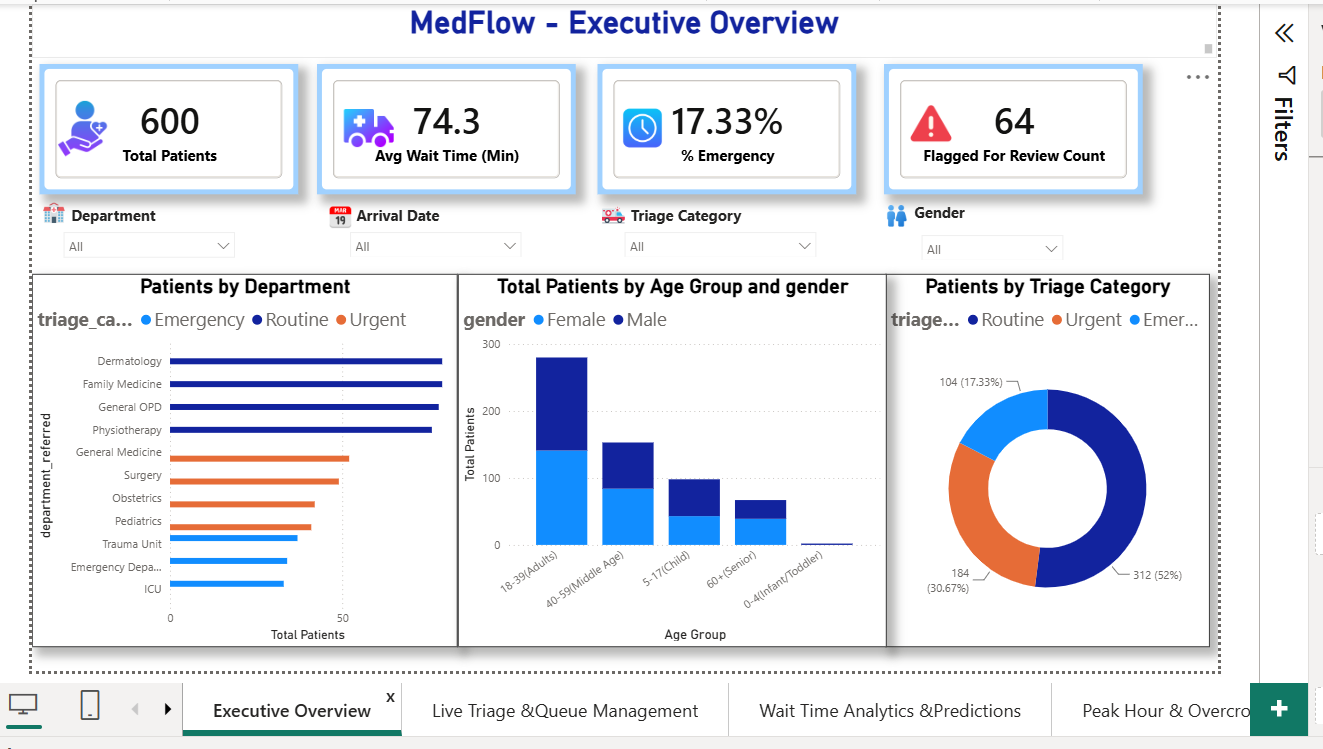

The dashboard page shown, as its layout file describes it:
{"tool":"powerbi","page":{"name":"Executive Overview","canvas":[1280,720],"ordinal":0},"visuals":[{"type":"cardVisual","title":"Total Patients","fields":{"Data":["Patients.Total Patients"]},"box":[8.8,64.4,279.5,140.5],"z":0},{"type":"cardVisual","title":"Flagged For Review Count","fields":{"Data":["Patients.Flagged For Review Count"]},"box":[919,64.4,279.5,140.5],"z":1000},{"type":"cardVisual","title":"Avg Wait Time(min)","fields":{"Data":["Patients.Avg Wait Time(min)"]},"box":[307.3,64.4,279.5,140.5],"z":2000},{"type":"donutChart","title":"Patients by Triage Category","fields":{"Category":["Patients.triage_category"],"Y":["Patients.Total Patients"]},"box":[922,291.2,349.8,402.4],"z":3000},{"type":"clusteredBarChart","title":"Patients by Department","fields":{"Category":["Patients.department_referred"],"Y":["Patients.Total Patients"],"Series":["Patients.triage_category"]},"box":[0,291.2,459.5,402.4],"z":4000},{"type":"columnChart","fields":{"Category":["Patients.Age Group"],"Y":["Patients.Total Patients"],"Series":["Patients.gender"]},"box":[459.5,291.2,462.4,402.4],"z":5000},{"type":"textbox","title":"MedFlow - Executive Overview","box":[0,0,1279,58.5],"z":6000},{"type":"slicer","title":"Department","fields":{"Values":["Patients.department_referred"]},"box":[24.9,237.1,204.9,48.3],"z":7000},{"type":"slicer","title":"Department","fields":{"Values":["Patients.gender"]},"box":[951.2,240,172.7,36.6],"z":8000},{"type":"slicer","title":"Department","fields":{"Values":["Patients.arrival_date"]},"box":[333.7,237.1,204.9,36.6],"z":9000},{"type":"slicer","title":"Department","fields":{"Values":["Patients.triage_category"]},"box":[629.3,237.1,226.8,36.6],"z":10000},{"type":"image","box":[320.5,218,24.9,23.4],"z":11000},{"type":"textbox","box":[641,212.2,163.9,32.2],"z":12000},{"type":"image","box":[11.7,213.7,24.9,23.4],"z":13000},{"type":"image","box":[616.1,215.1,24.9,24.9],"z":14000},{"type":"textbox","box":[946.8,209.3,90.7,32.2],"z":15000},{"type":"image","box":[922,216.6,24.9,23.4],"z":16000},{"type":"textbox","box":[345.4,212.2,114.1,43.9],"z":17000},{"type":"image","box":[24.9,93.7,60,82],"z":18000},{"type":"image","box":[333.7,93.7,60,80.5],"z":19000},{"type":"cardVisual","fields":{"Data":["Patients.% Emergency"]},"box":[610.2,64.4,279.5,140.5],"z":20000},{"type":"image","box":[636.6,93.7,45.4,80.5],"z":21000},{"type":"image","box":[939.5,83.4,62.9,90.7],"z":22000},{"type":"textbox","box":[38,212.2,111.2,35.1],"z":23000}]}

Visuals, with their boxes on the page's 1280x720 design canvas (x1, y1, x2, y2). These are canvas units, not pixel positions in the 1323x749 screenshot, which may show the page scaled, cropped or inside an application window:
"Total Patients" cardVisual: BBox(9, 64, 288, 205)
"Flagged For Review Count" cardVisual: BBox(919, 64, 1198, 205)
"Avg Wait Time(min)" cardVisual: BBox(307, 64, 587, 205)
"Patients by Triage Category" donutChart: BBox(922, 291, 1272, 694)
"Patients by Department" clusteredBarChart: BBox(0, 291, 460, 694)
columnChart - Patients.Age Group x Patients.Total Patients: BBox(460, 291, 922, 694)
"MedFlow - Executive Overview" textbox: BBox(0, 0, 1279, 58)
"Department" slicer: BBox(25, 237, 230, 285)
"Department" slicer: BBox(951, 240, 1124, 277)
"Department" slicer: BBox(334, 237, 539, 274)
"Department" slicer: BBox(629, 237, 856, 274)
image: BBox(320, 218, 345, 241)
textbox: BBox(641, 212, 805, 244)
image: BBox(12, 214, 37, 237)
image: BBox(616, 215, 641, 240)
textbox: BBox(947, 209, 1038, 242)
image: BBox(922, 217, 947, 240)
textbox: BBox(345, 212, 460, 256)
image: BBox(25, 94, 85, 176)
image: BBox(334, 94, 394, 174)
cardVisual - Patients.% Emergency: BBox(610, 64, 890, 205)
image: BBox(637, 94, 682, 174)
image: BBox(940, 83, 1002, 174)
textbox: BBox(38, 212, 149, 247)
